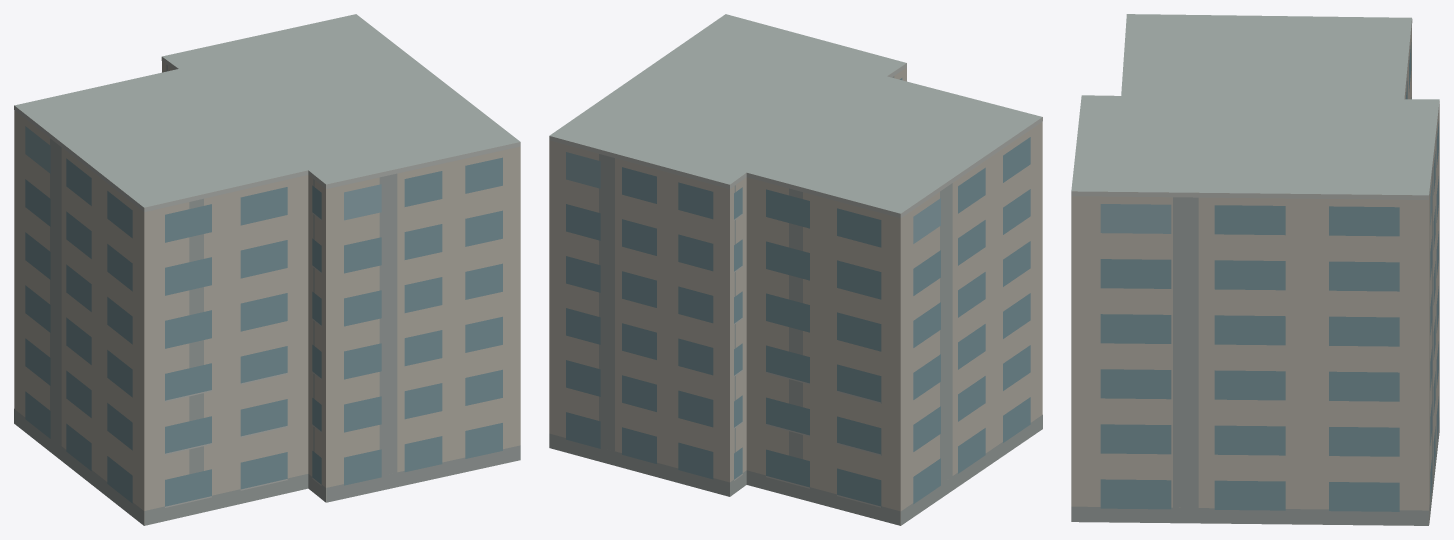
The model's file is survey-upis-32703020.glb.
3 views of the same model, side by side, from view 1: azimuth 30°, elevation 25°; view 2: azimuth 150°, elevation 25°; view 3: azimuth 270°, elevation 25° (orthographic). The views are drawn at different scales.
Parts seen in each view (by area): view 1: survey-upis-32703020.tmp; view 2: survey-upis-32703020.tmp; view 3: survey-upis-32703020.tmp.
Boxes of the visible parts, left/top/right/bottom form: survey-upis-32703020.tmp: left=14, top=14, right=520, bottom=525; survey-upis-32703020.tmp: left=549, top=14, right=1042, bottom=525; survey-upis-32703020.tmp: left=1071, top=14, right=1439, bottom=525.
Bounding box in the file's own units: 19.95 × 16.95 × 17.13.
